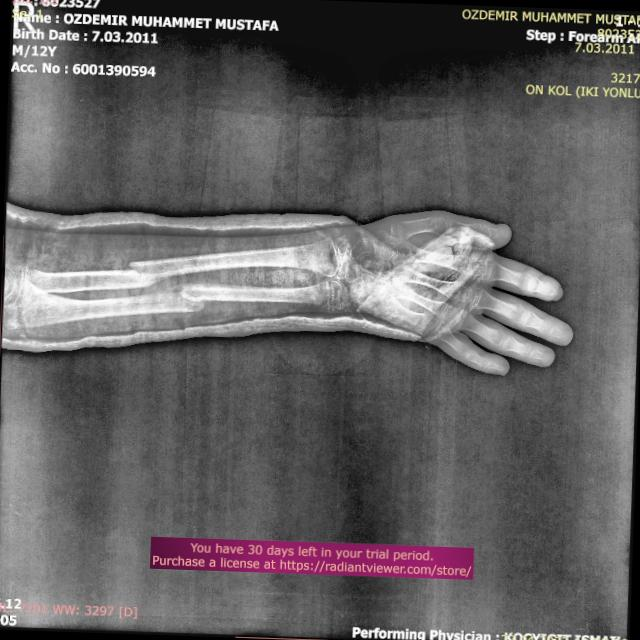Fracture: (168, 283, 208, 314), (124, 259, 160, 289)
